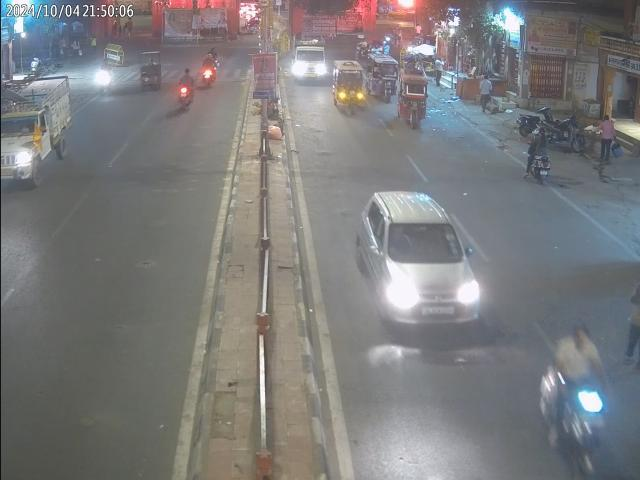auto: (330, 62, 368, 116), (396, 73, 429, 128), (367, 54, 400, 98), (136, 48, 166, 90)
car: (353, 191, 483, 347)
lorry: (5, 74, 79, 192), (291, 28, 327, 90)
motorbike-rider: (536, 251, 640, 480), (173, 65, 202, 116), (201, 48, 219, 88)
person: (594, 113, 620, 167), (478, 77, 496, 113)
scooty: (514, 108, 550, 137)
scooty-rider: (524, 128, 554, 182)
